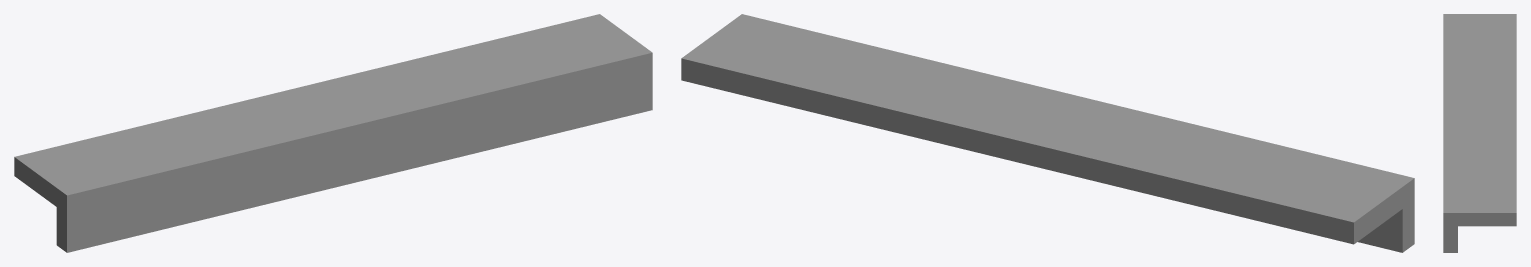
The model's file is outside_corridor_side_beam.obj.
3 renders of one model, left to right at view 1: azimuth 30°, elevation 25°; view 2: azimuth 150°, elevation 25°; view 3: azimuth 270°, elevation 25°, orthographic. The views are drawn at different scales.
Size of the model in its own units: 6.4 by 0.6 by 1.
1 material, 1 textured.
